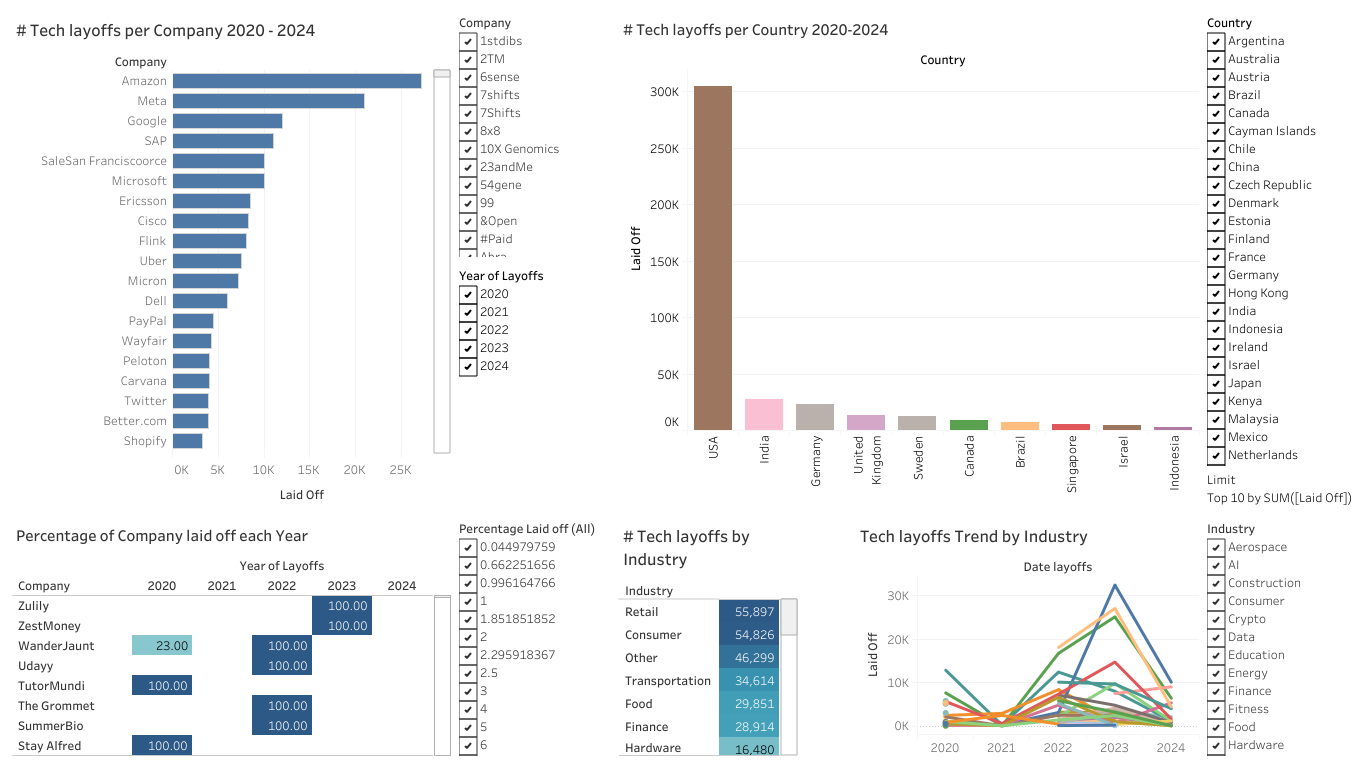

This screenshot's page, from the dashboard's own definition file:
{"tool":"tableau","page":{"name":"TECH LAYOFFS 2020-2024","canvas":[1000,1000],"units":"permille","ordinal":0},"visuals":[{"type":"worksheet","title":"KPIs","mark":"Automatic","box":[7,17.1,181.4,134.6]},{"type":"filter","title":"Top 10 Tech layoffs per Country 2020-2024","param":"[federated.1usan6t152vzbq19vp01i0ec4ykk].[none:Country:nk]","box":[188.5,17.1,203.5,134.6]},{"type":"filter","title":"Top 10 Tech layoffs per Country 2020-2024","param":"[federated.1usan6t152vzbq19vp01i0ec4ykk].[none:Year (copy)_1055566173478916:ok]","box":[392,17.1,107.6,134.6]},{"type":"filter","title":"Top 10 Tech layoffs per Country 2020-2024","param":"[federated.1usan6t152vzbq19vp01i0ec4ykk].[none:Company:nk]","box":[499.6,17.1,250.1,134.6]},{"type":"filter","title":"Tech Layoffs Trend","param":"[federated.1usan6t152vzbq19vp01i0ec4ykk].[none:Industry:nk]","box":[749.7,17.1,243.3,134.6]},{"type":"worksheet","title":"Top 10 Tech layoffs per Country 2020-2024","mark":"Automatic","rows":["Laid_Off"],"cols":["Country"],"box":[7,151.7,742.6,438]},{"type":"worksheet","title":"# Tech layoffs per Company 2020-2024","mark":"Automatic","rows":["Company"],"cols":["Laid_Off"],"box":[749.7,151.7,243.2,438]},{"type":"worksheet","title":"Tech Layoffs Trend","mark":"Automatic","rows":["Laid_Off"],"cols":["Date_layoffs"],"box":[7,589.6,397.3,393.3]},{"type":"worksheet","title":"Percentage Laid off per Year","mark":"Square","rows":["Company"],"cols":["Year (copy)_1055566173478916"],"box":[404.4,589.6,345.4,393.3]},{"type":"worksheet","title":"# Tech layoffs by Industry","mark":"Automatic","rows":["Industry"],"cols":["Laid_Off"],"box":[749.7,589.6,243.2,393.3]}]}

Visuals, with their boxes on the dashboard's canvas, which has no fixed pixel size, in thousandths of its width and height (x1, y1, x2, y2). These are canvas units, not pixel positions in the 1365x767 screenshot, which may show the page scaled, cropped or inside an application window:
"KPIs" worksheet: 7:17:188:152
"Top 10 Tech layoffs per Country 2020-2024" filter: 188:17:392:152
"Top 10 Tech layoffs per Country 2020-2024" filter: 392:17:500:152
"Top 10 Tech layoffs per Country 2020-2024" filter: 500:17:750:152
"Tech Layoffs Trend" filter: 750:17:993:152
"Top 10 Tech layoffs per Country 2020-2024" worksheet: 7:152:750:590
"# Tech layoffs per Company 2020-2024" worksheet: 750:152:993:590
"Tech Layoffs Trend" worksheet: 7:590:404:983
"Percentage Laid off per Year" worksheet (Square marks): 404:590:750:983
"# Tech layoffs by Industry" worksheet: 750:590:993:983
